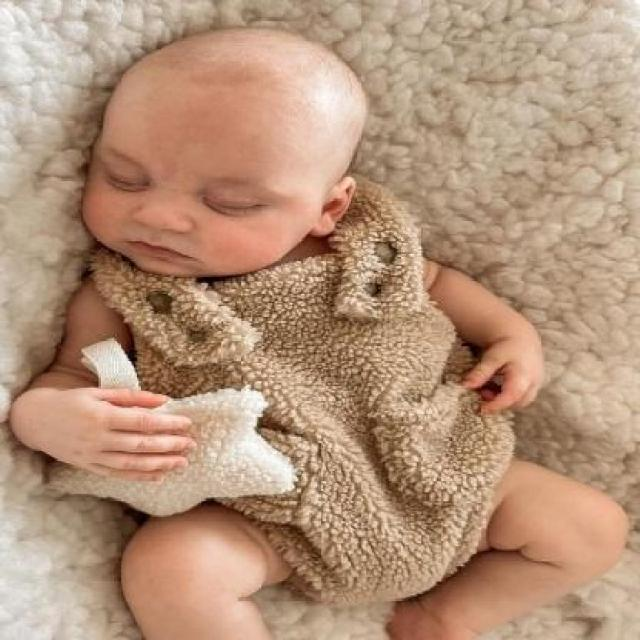baby: (8, 24, 622, 638)
